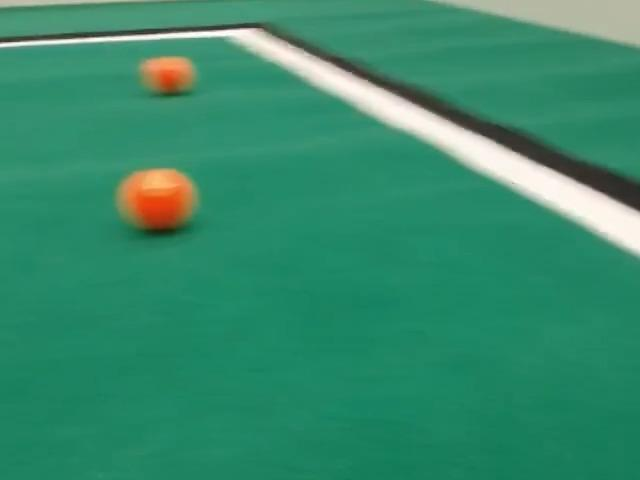Ball: (116, 168, 198, 231), (140, 57, 195, 94)
